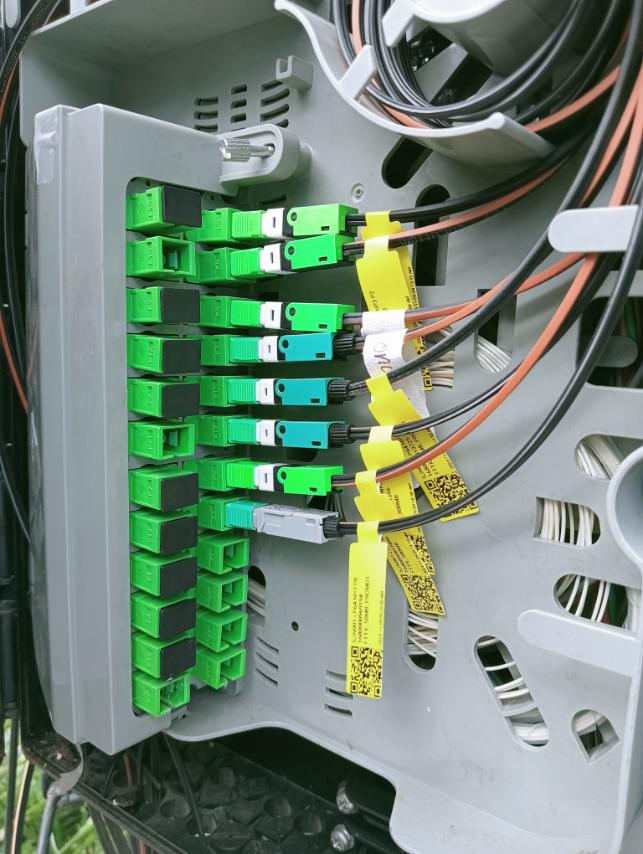no dust cap: (157, 672, 191, 719), (159, 237, 197, 276), (158, 424, 196, 460), (217, 649, 247, 691), (219, 614, 248, 651), (220, 537, 249, 573), (220, 575, 248, 612)
occupied: (231, 230, 353, 281), (225, 502, 355, 548), (229, 328, 376, 367), (227, 375, 382, 411), (226, 418, 371, 456), (226, 461, 360, 501), (231, 202, 364, 241), (229, 299, 368, 335)
vacant: (158, 472, 200, 514), (162, 186, 203, 229), (159, 556, 198, 601), (159, 636, 197, 681), (159, 515, 198, 558), (160, 597, 196, 642), (158, 288, 200, 324), (161, 339, 202, 374), (163, 383, 201, 420)
